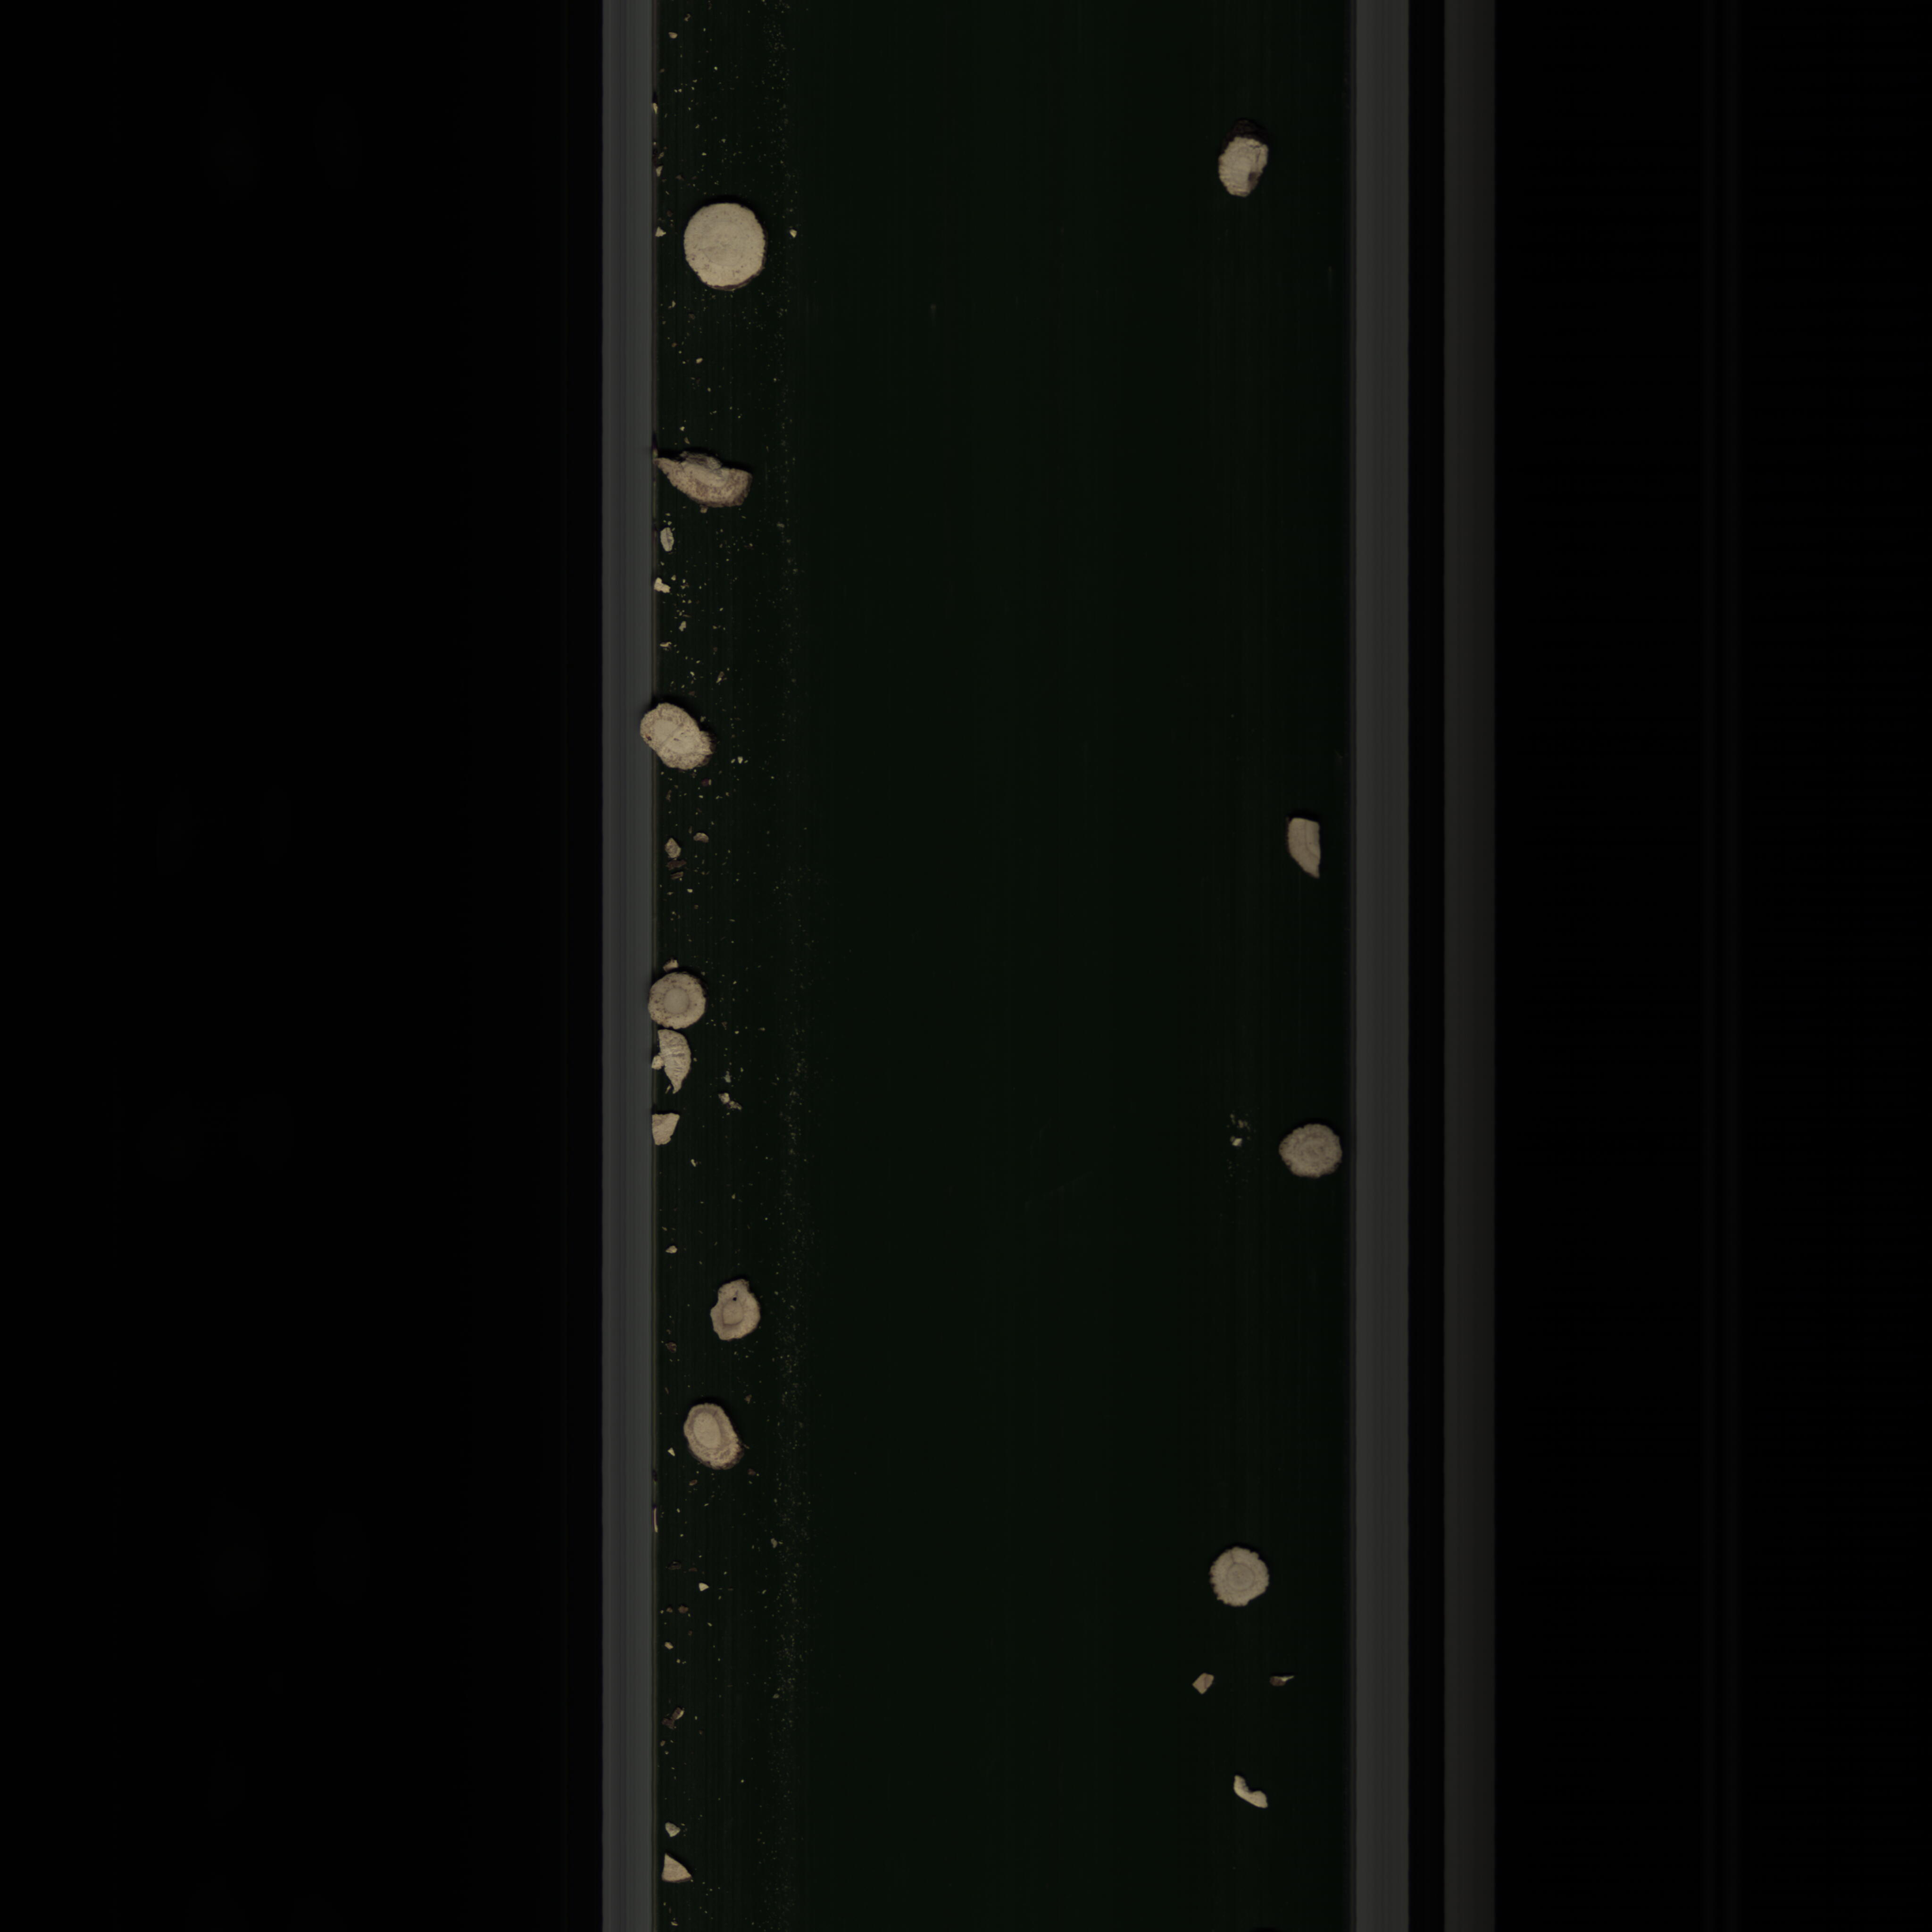debris: (656, 453, 757, 517), (694, 1267, 771, 1343), (1274, 809, 1327, 883), (655, 1031, 695, 1097), (1224, 1775, 1272, 1817), (655, 1851, 704, 1891), (649, 1109, 685, 1148), (1260, 1667, 1304, 1697), (1184, 1667, 1219, 1704)
